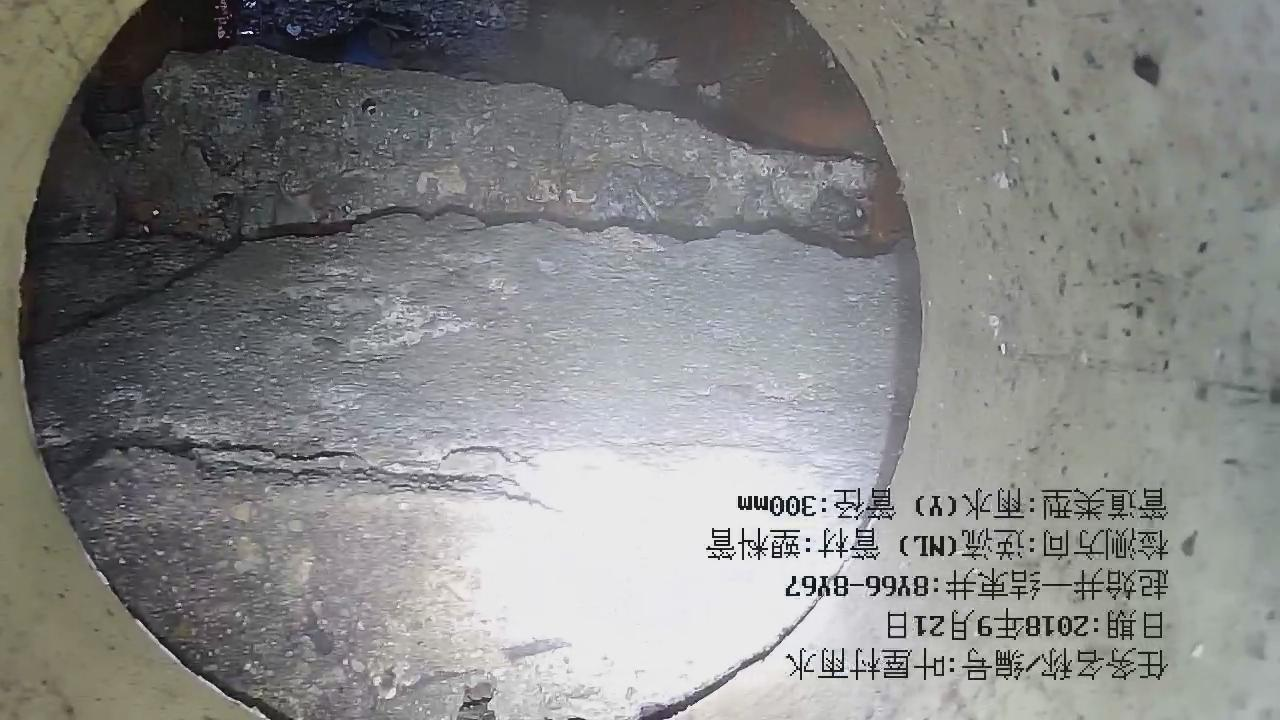CQBG: (25, 47, 909, 720)
